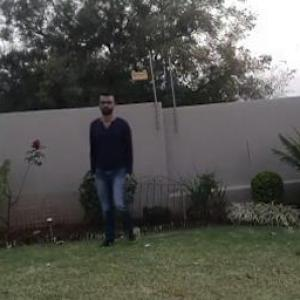follow: (100, 88, 154, 255)
